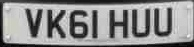character: (46, 8, 66, 39), (108, 8, 128, 39), (24, 7, 43, 38), (69, 9, 89, 38), (153, 7, 173, 36), (131, 8, 150, 38), (91, 9, 98, 38)
